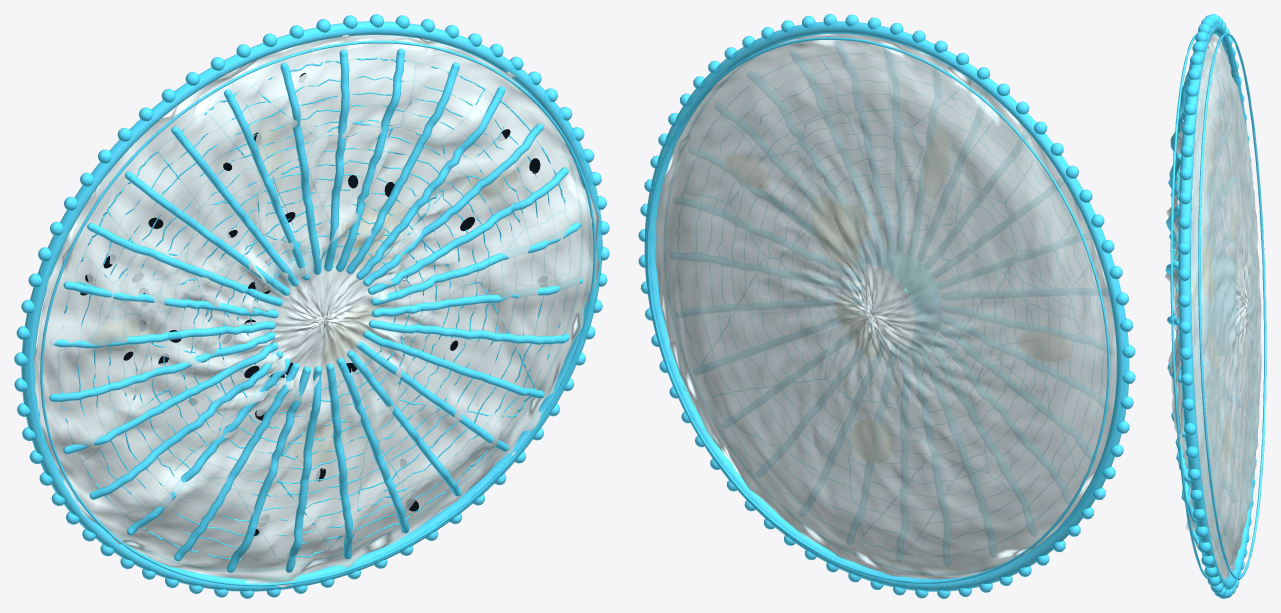
The model's file is diatom-1.glb.
The picture shows the model from 3 angles, left to right: view 1: azimuth 30°, elevation 25°; view 2: azimuth 150°, elevation 25°; view 3: azimuth 270°, elevation 25°; orthographic projection. The views are drawn at different scales.
Parts seen in each view (by area): view 1: shell, smooth tube body, silica mantle rim, differential growth lamella, margin granules, girdle band, Voronoi cell areola centers, rounded tube cap; view 2: shell, silica mantle rim, margin granules, girdle band; view 3: shell, silica mantle rim, girdle band, margin granules, smooth tube body, differential growth lamella, rounded tube cap.
Boxes of the visible parts, bbox=[...] form: shell: bbox=[34, 35, 599, 587]; smooth tube body: bbox=[52, 52, 581, 572]; silica mantle rim: bbox=[21, 21, 602, 591]; differential growth lamella: bbox=[76, 75, 549, 548]; margin granules: bbox=[14, 14, 609, 598]; girdle band: bbox=[40, 40, 596, 586]; Voronoi cell areola centers: bbox=[80, 73, 540, 535]; rounded tube cap: bbox=[49, 48, 582, 572]; shell: bbox=[655, 33, 1116, 579]; silica mantle rim: bbox=[644, 21, 1129, 591]; margin granules: bbox=[638, 14, 1135, 598]; girdle band: bbox=[646, 37, 1110, 583]; shell: bbox=[1164, 33, 1261, 579]; silica mantle rim: bbox=[1178, 22, 1255, 589]; girdle band: bbox=[1170, 32, 1266, 579]; margin granules: bbox=[1177, 14, 1257, 598]; smooth tube body: bbox=[1165, 62, 1198, 547]; differential growth lamella: bbox=[1171, 166, 1189, 486]; rounded tube cap: bbox=[1173, 78, 1198, 549].
Size of the model in its own units: 114 by 114 by 19.99.
